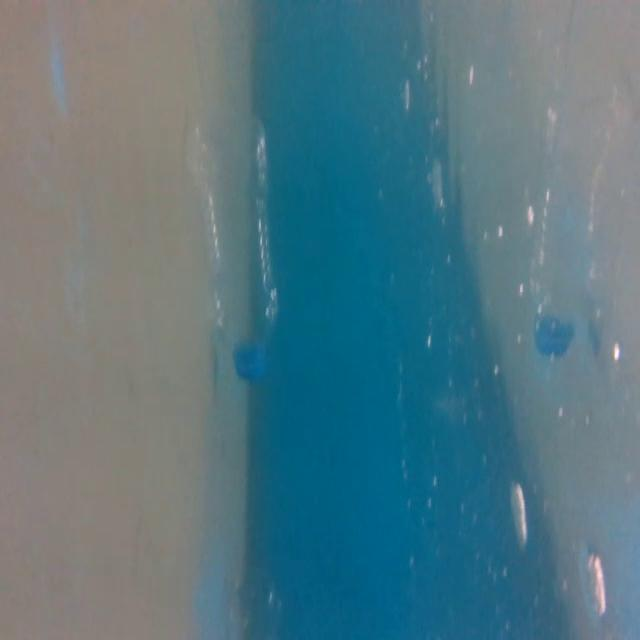plastic bottle: (185, 103, 288, 386)
